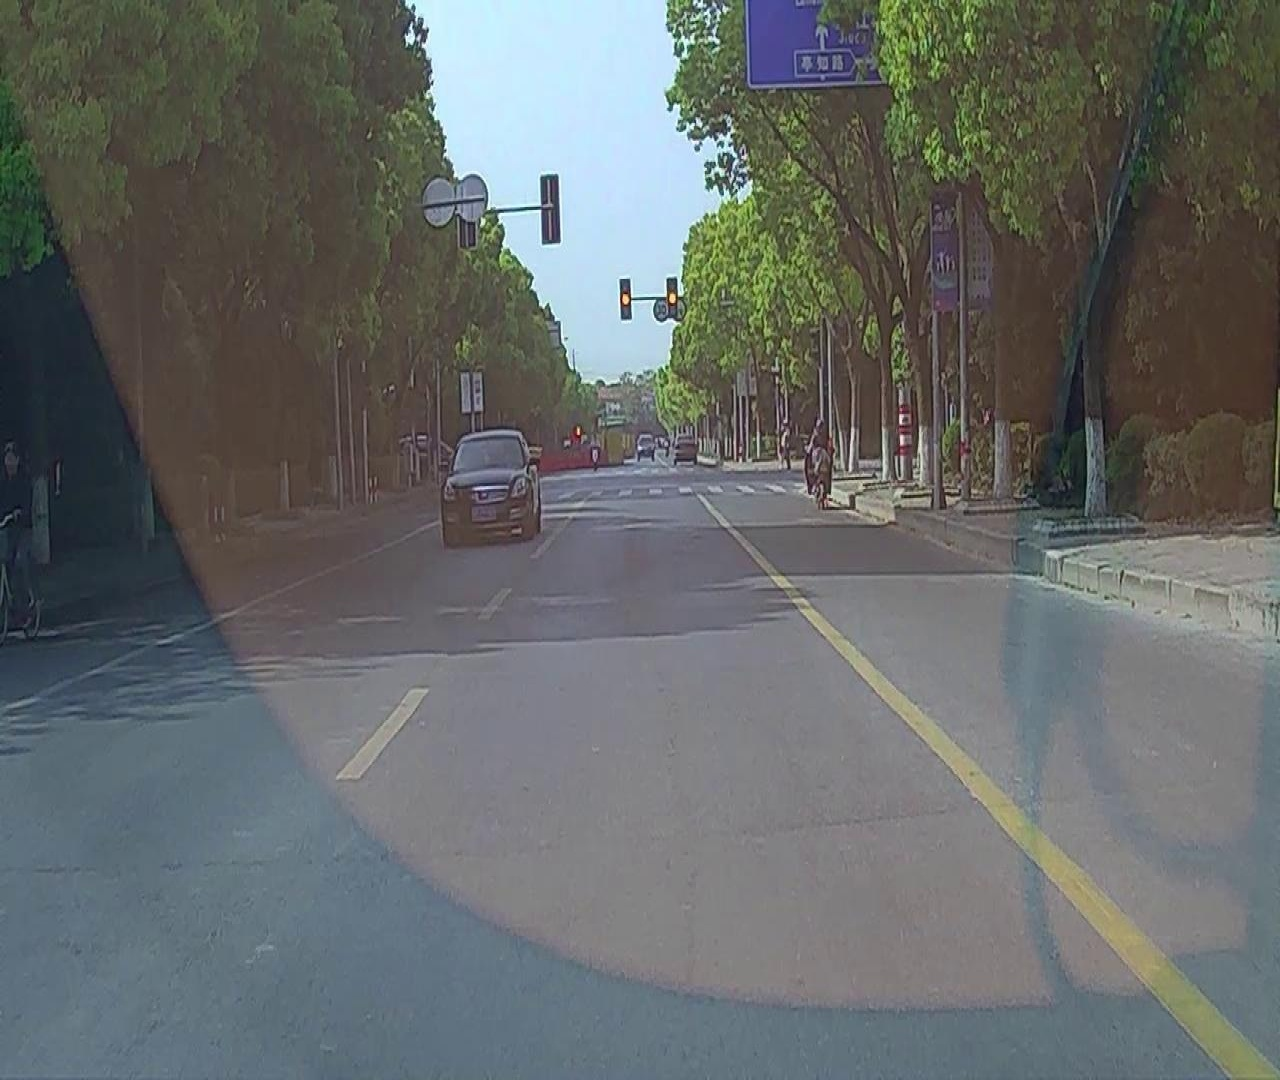yellow: (620, 279, 631, 318), (667, 276, 677, 316)
